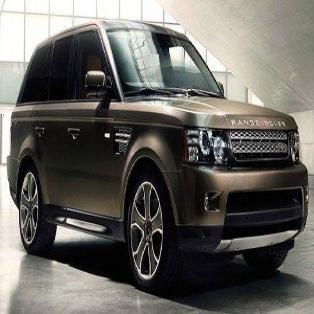Auto: (7, 18, 309, 295)
